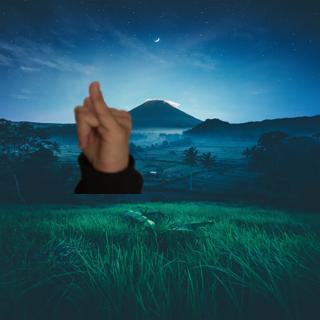HAVE: (64, 77, 139, 174)
